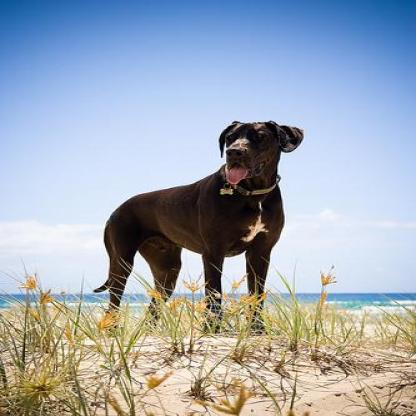Great_Dane: (92, 116, 304, 336)
